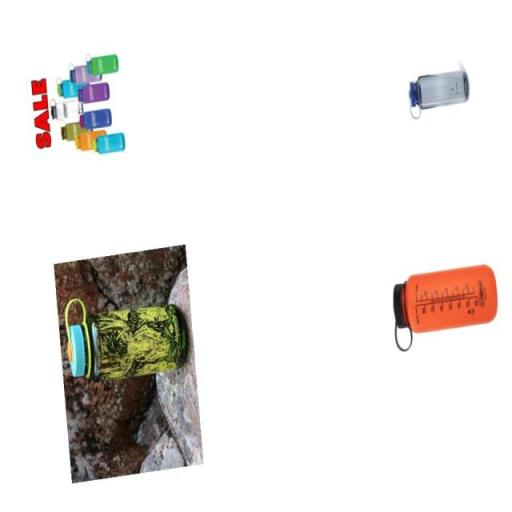bottle: (62, 297, 192, 381), (392, 264, 500, 354), (406, 67, 472, 122), (84, 50, 121, 77), (92, 131, 128, 157), (66, 60, 104, 84), (78, 106, 113, 131), (74, 128, 108, 153), (77, 80, 110, 105), (49, 98, 86, 120), (56, 76, 90, 99), (59, 120, 94, 142)
